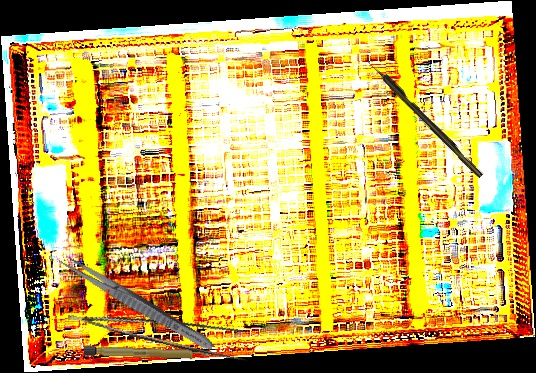Dressing Forceps: (56, 251, 217, 355)
Hook Surgical: (366, 57, 484, 180)
Scalpel Handle: (83, 345, 211, 361)
Tissue Forceps: (67, 286, 255, 367)
